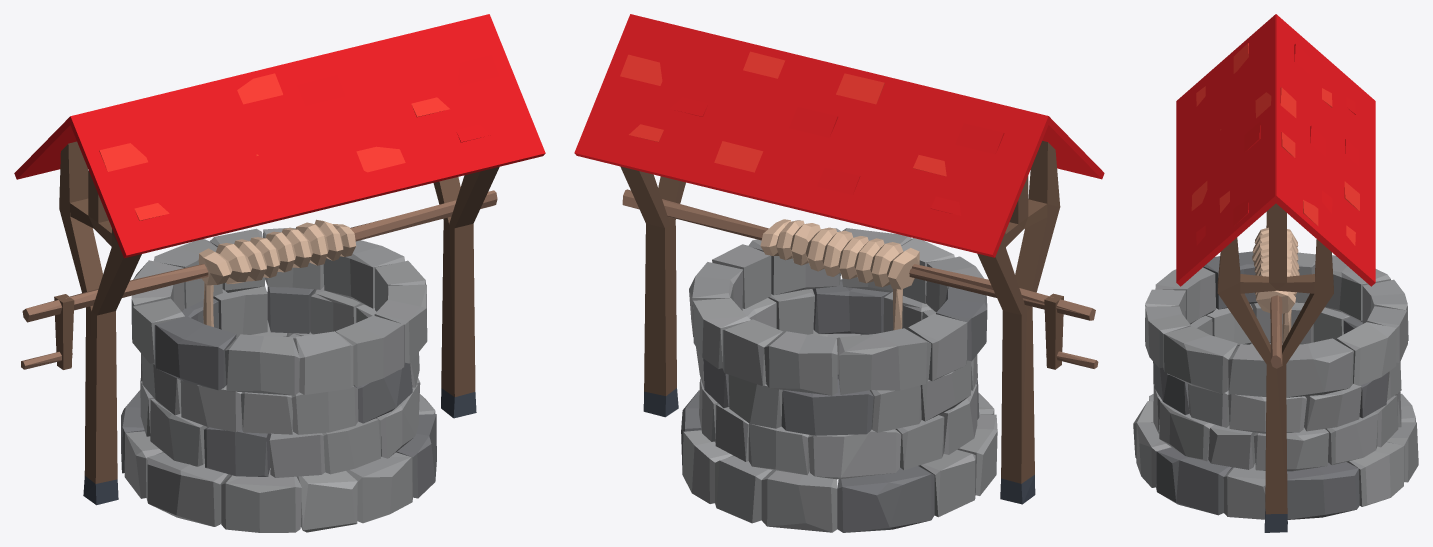
Rendered from well.obj.
3 renders of one model, left to right at view 1: azimuth 30°, elevation 25°; view 2: azimuth 150°, elevation 25°; view 3: azimuth 270°, elevation 25°, orthographic. The views are drawn at different scales.
Parts seen in each view (by area): view 1: well; view 2: well; view 3: well.
Boxes of the visible parts, <box> form: well: <box>14,14,545,532</box>; well: <box>574,14,1104,532</box>; well: <box>1133,14,1418,532</box>.
Bounding box in the file's own units: 2.44 × 2 × 1.44.
